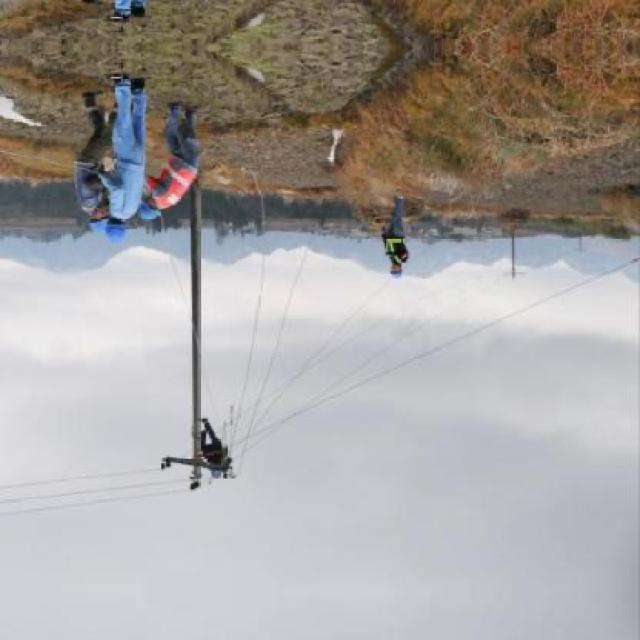con casco: (58, 194, 183, 261)
